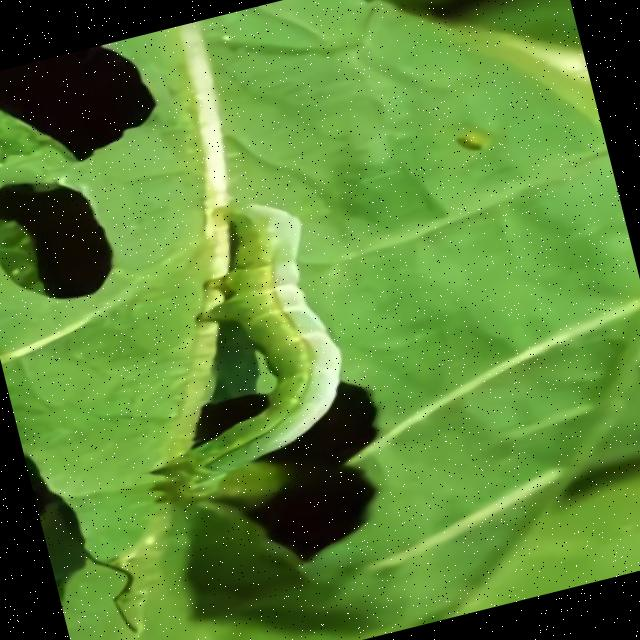worm: (106, 168, 375, 514)
